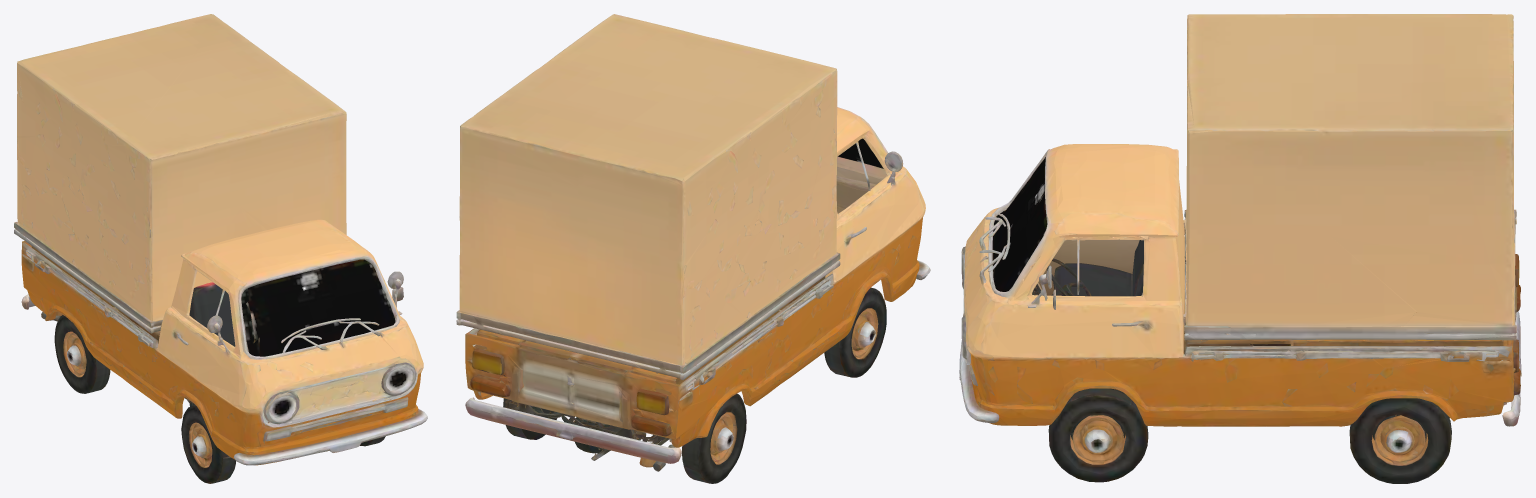
Rendered from traffic-delivery.glb.
3 renders of one model, left to right at view 1: azimuth 30°, elevation 25°; view 2: azimuth 150°, elevation 25°; view 3: azimuth 270°, elevation 25°, orthographic. The views are drawn at different scales.
Visible parts, largest first — view 1: geometry_0; view 2: geometry_0; view 3: geometry_0.
Part boxes in pixels (bbox=[...]): geometry_0: bbox=[14, 14, 427, 483]; geometry_0: bbox=[456, 14, 930, 483]; geometry_0: bbox=[959, 14, 1521, 483].
Size of the model in its own units: 0.4974 by 0.7125 by 1.
1 material, 1 textured.
